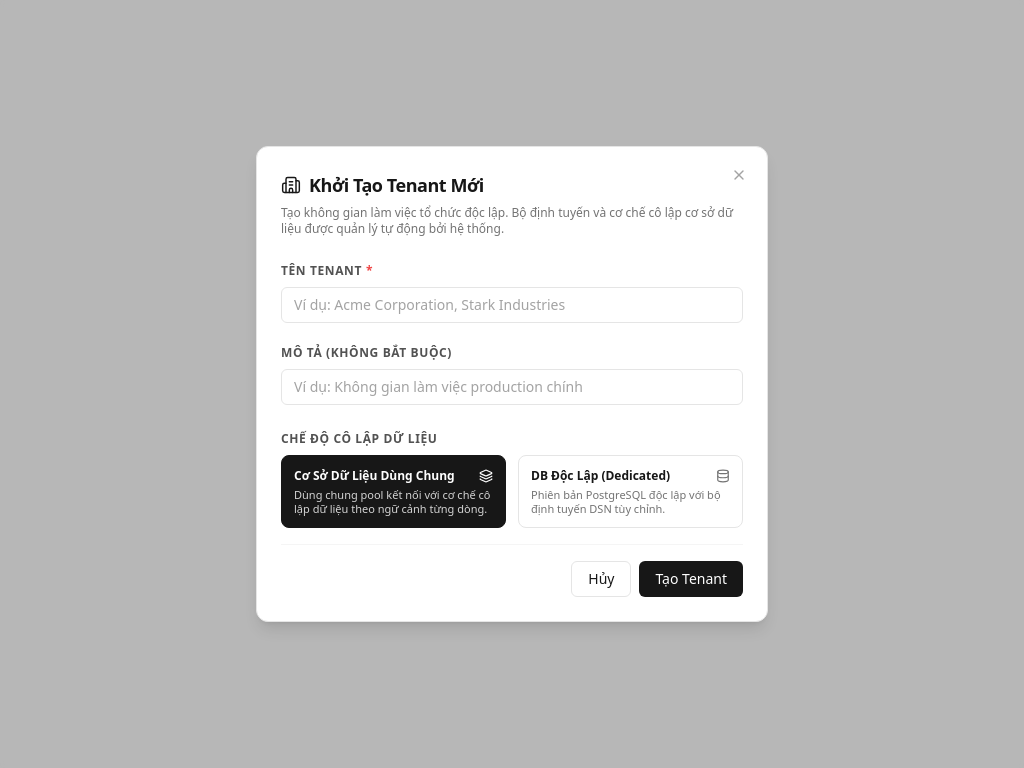
Test case: Tenant Module › CreateTenantDialog › renders form and validates required tenant name in Vietnamese with isolation mode selection
Expected: the text "Khởi Tạo Tenant Mới" is shown, [309,171,484,199]
Expected: the field labelled "Tên Tenant*" is shown, [281,287,743,323]
Submit without name
Click the button "Tạo Tenant".
click(691, 579)  # box [640,561,743,597]
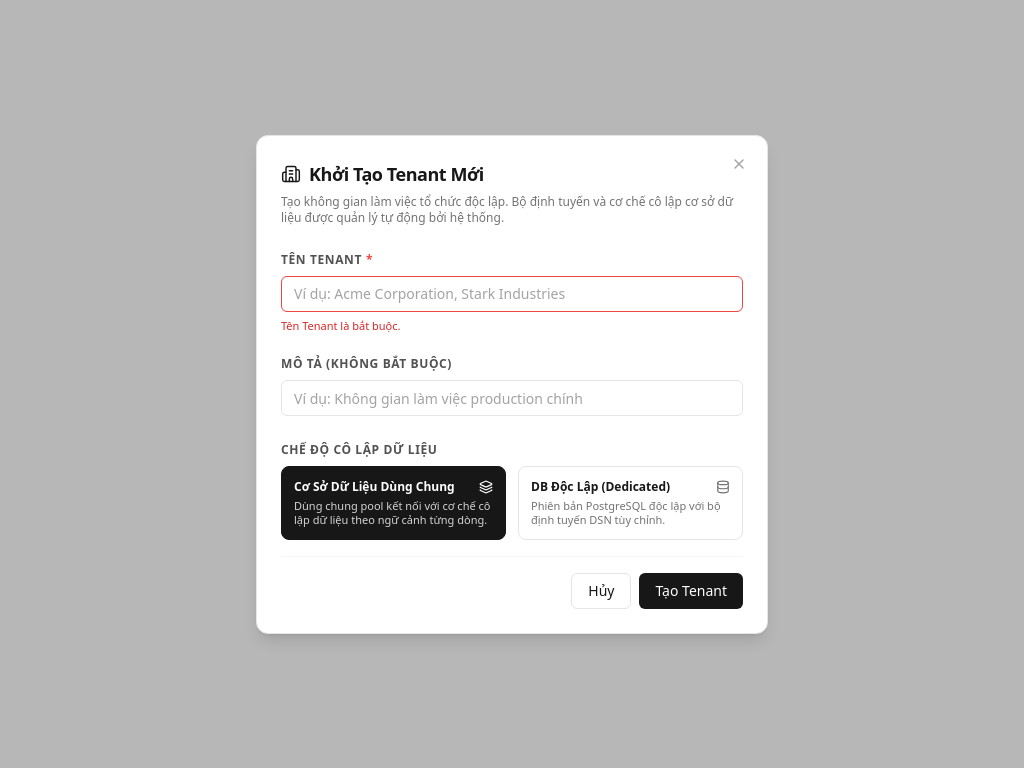
Result: the text "Tên Tenant là bắt buộc." is shown at [281,318,400,332]
